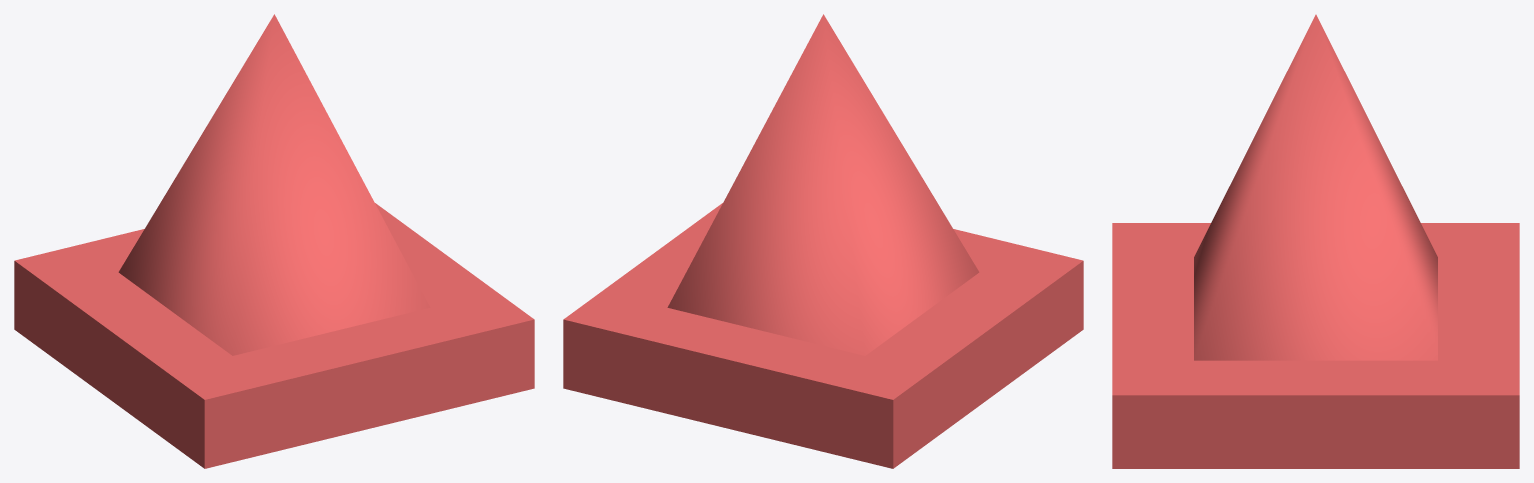
File: 001_spine.FBX
3 views of the same model, side by side, from view 1: azimuth 30°, elevation 25°; view 2: azimuth 150°, elevation 25°; view 3: azimuth 270°, elevation 25° (orthographic). The views are drawn at different scales.
Visible parts, largest first — view 1: 001_Spine; view 2: 001_Spine; view 3: 001_Spine.
Part boxes in pixels (<box>): 001_Spine: <box>14,14,534,468</box>; 001_Spine: <box>563,14,1083,468</box>; 001_Spine: <box>1112,14,1519,468</box>.
Bounding box in the file's own units: 100 × 100 × 100.
